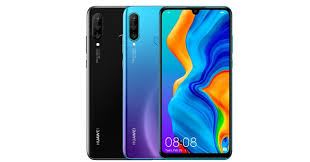huawei: (157, 4, 234, 162), (84, 4, 124, 160), (121, 6, 161, 162)
